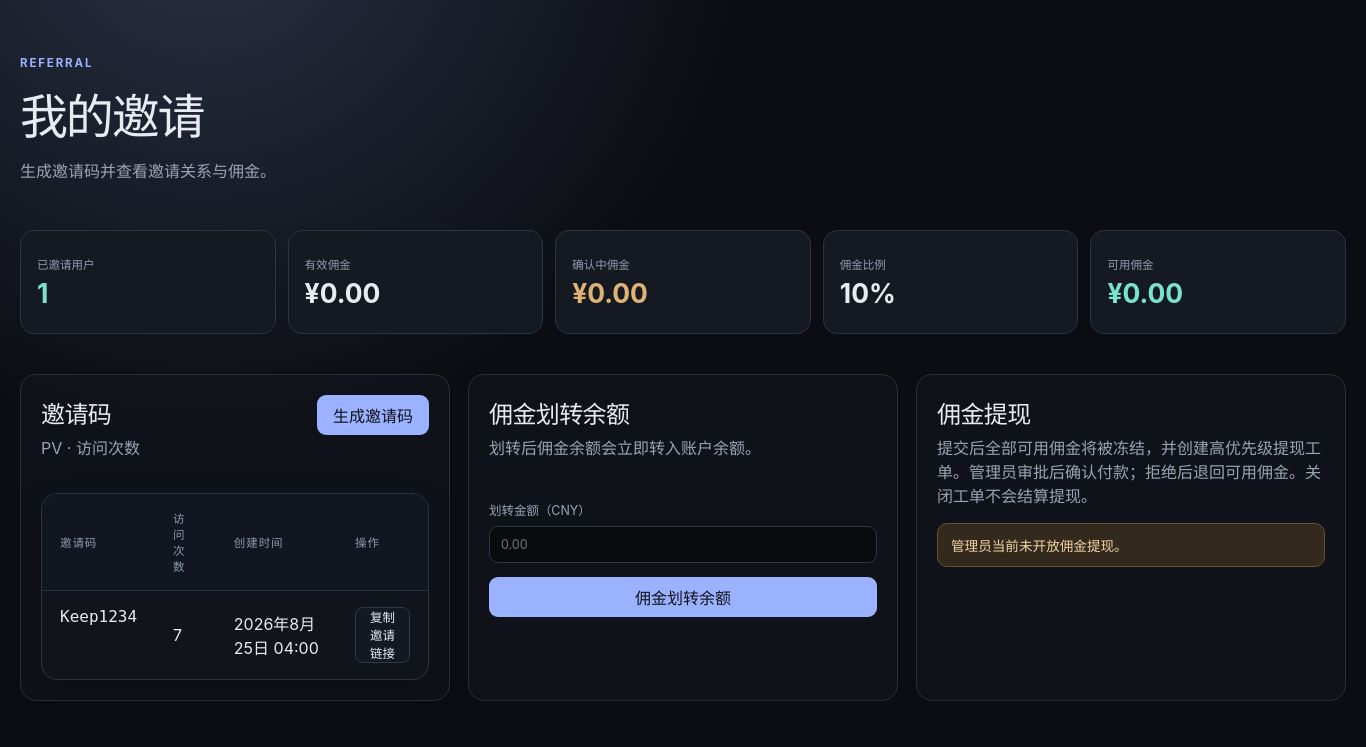
it: InvitationPage › keeps existing data visible when generation reaches the limit
Expected: the text "Keep1234" is shown, [60,607,137,626]
Click the button "生成邀请码" at (373, 415), box [317,395,429,435]
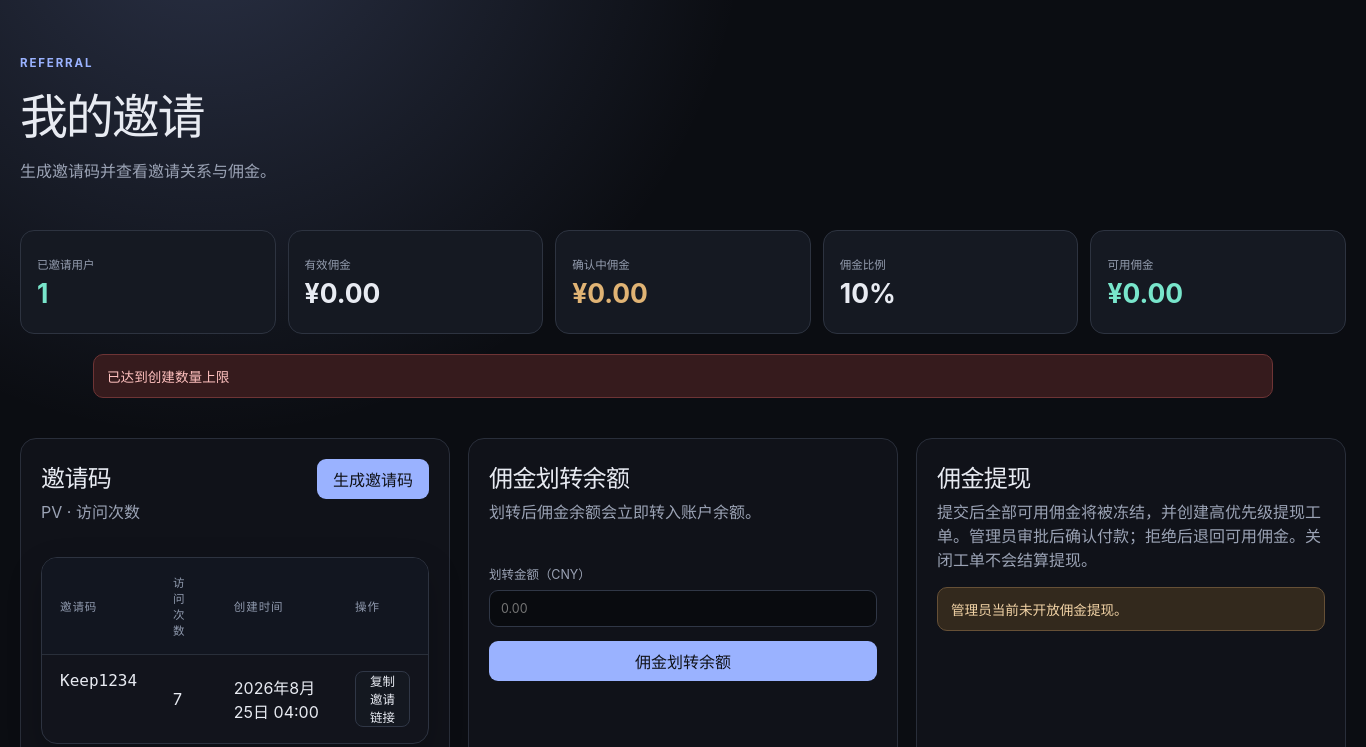
Expected: the text "Keep1234" is shown, [60,671,137,690]
Expected: the message reads "已达到创建数量上限", [107,369,229,385]
